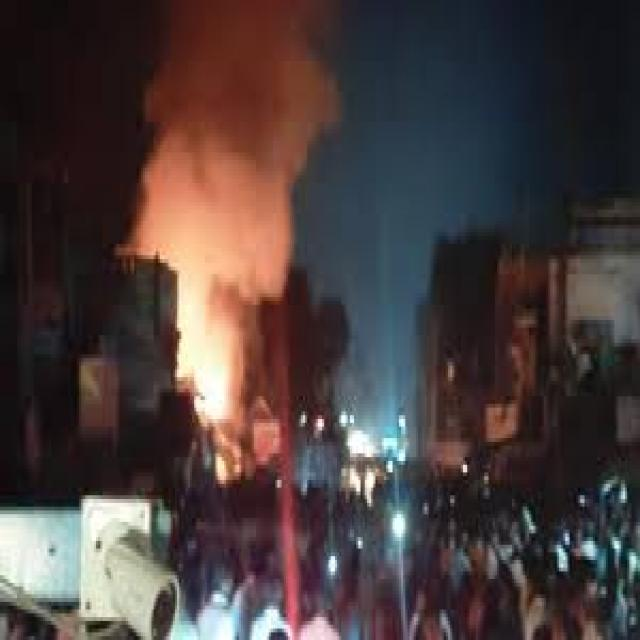smoke: (124, 3, 346, 308), (166, 282, 262, 480)
